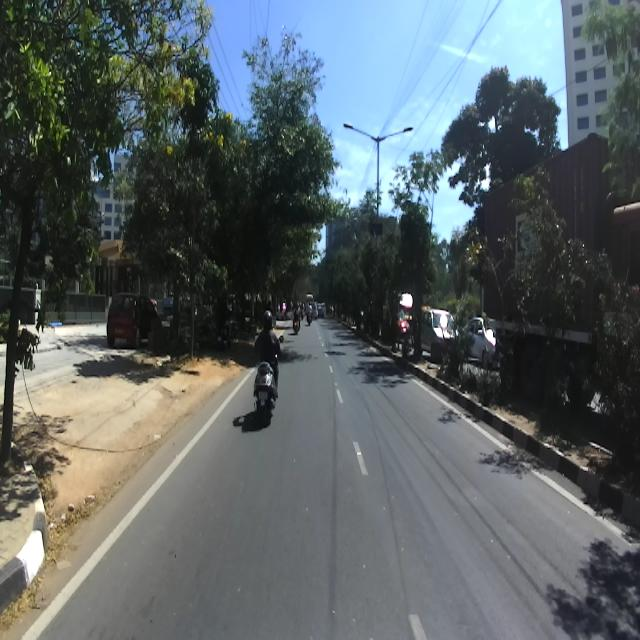motorcycle ahead at: (248, 362, 285, 429)
